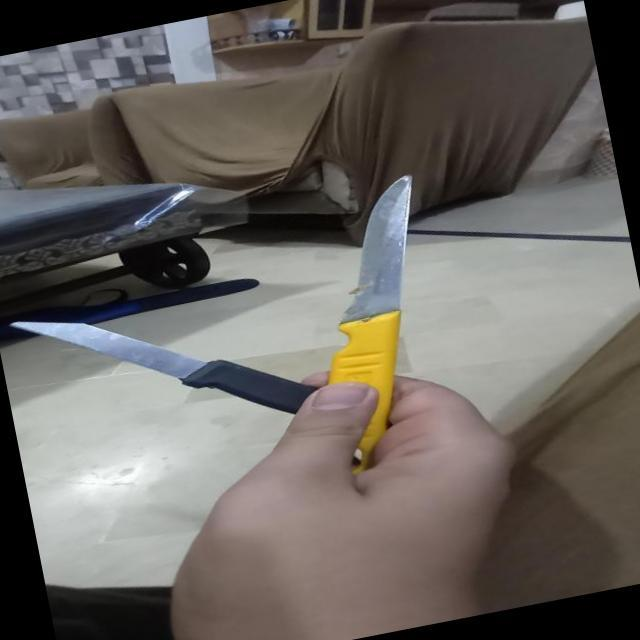Knife: (0, 256, 347, 489), (269, 172, 476, 478)
